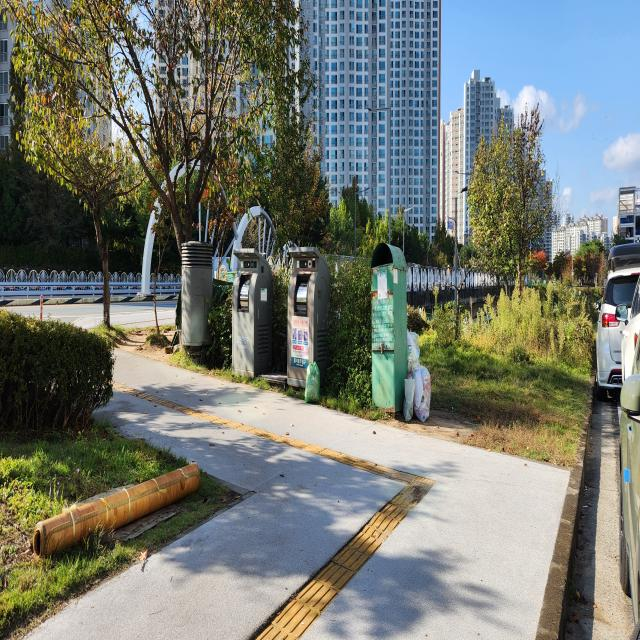CleanNet: (284, 244, 332, 400), (231, 239, 273, 384)
General Waste: (404, 330, 432, 423), (302, 360, 324, 410)
